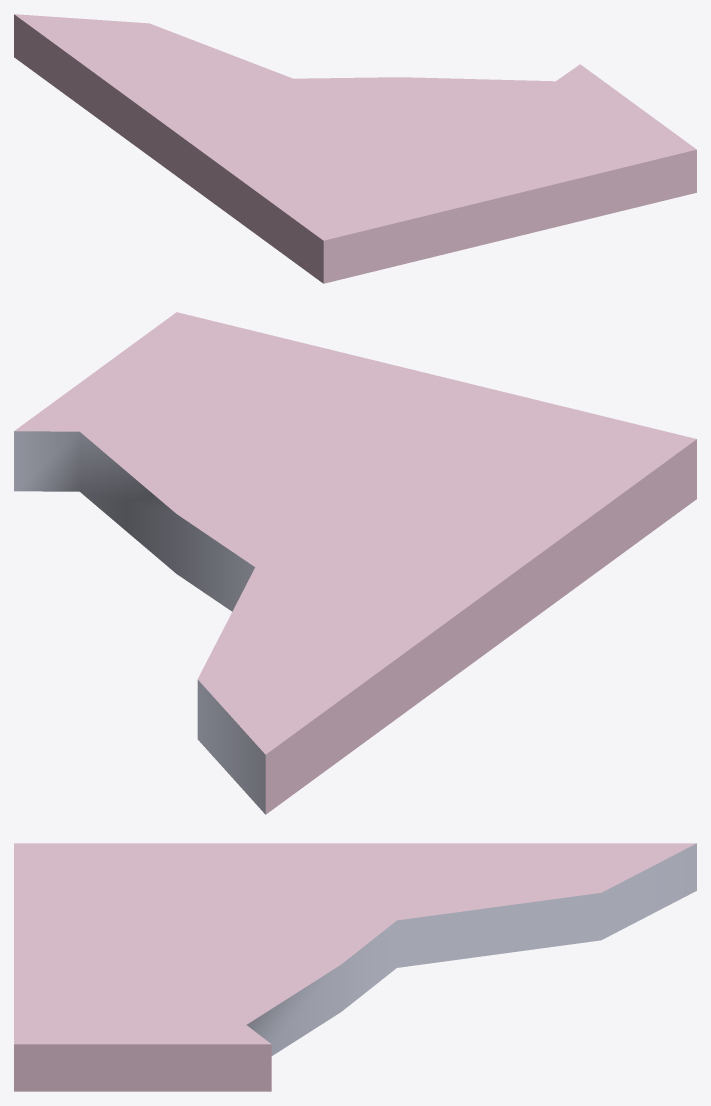
The picture shows the model from 3 angles, top to bottom: view 1: azimuth 30°, elevation 25°; view 2: azimuth 150°, elevation 25°; view 3: azimuth 270°, elevation 25°; orthographic projection. The views are drawn at different scales.
Visible parts, largest first — view 1: Object26; view 2: Object26; view 3: Object26.
Boxes of the visible parts, bbox=[...] form: Object26: bbox=[14, 14, 696, 283]; Object26: bbox=[14, 312, 696, 814]; Object26: bbox=[14, 843, 696, 1091].
Size of the model in its own units: 8604 by 949 by 12355.
